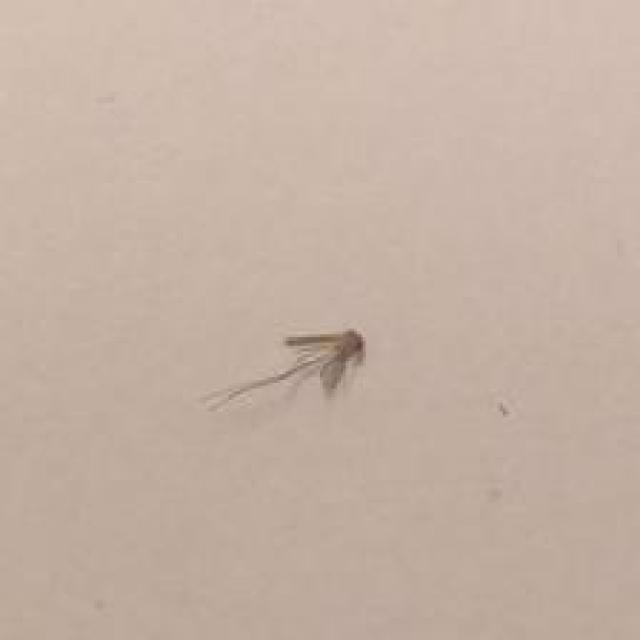Culex: (200, 326, 366, 414)
